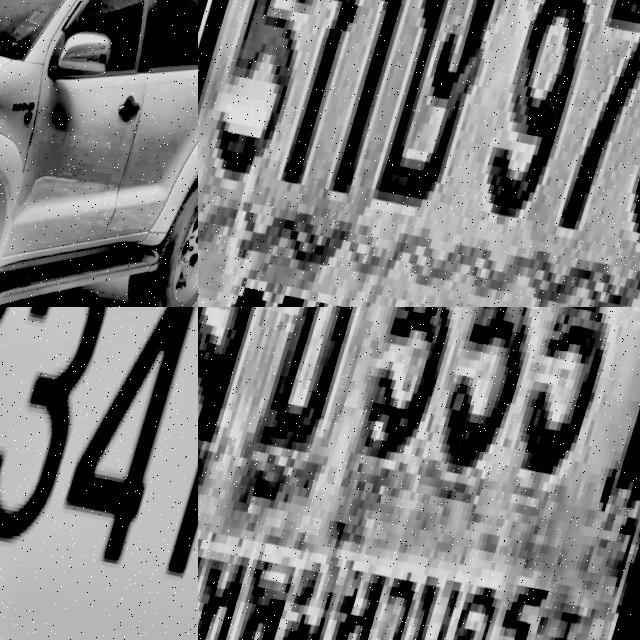license-plate: (198, 307, 640, 640), (198, 0, 640, 307), (0, 307, 198, 640)
